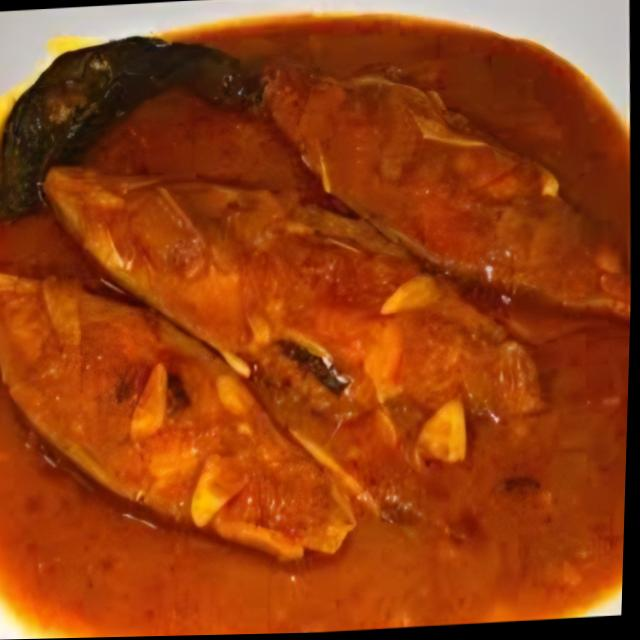FISH CURRY: (0, 14, 630, 638)
